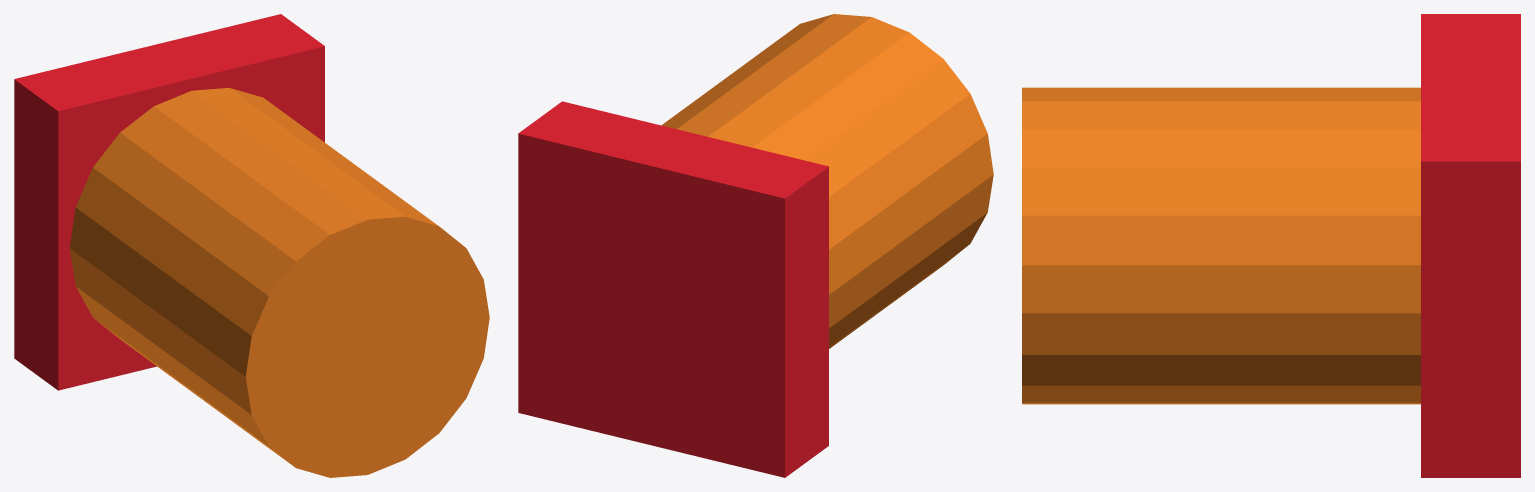
Rendered from tinker.obj.
3 renders of one model, left to right at view 1: azimuth 30°, elevation 25°; view 2: azimuth 150°, elevation 25°; view 3: azimuth 270°, elevation 25°, orthographic. The views are drawn at different scales.
Visible parts, largest first — view 1: group_0_16089887, group_0_15277357; view 2: group_0_15277357, group_0_16089887; view 3: group_0_16089887, group_0_15277357.
Part boxes in pixels (bbox=[...]): group_0_16089887: bbox=[69, 88, 489, 477]; group_0_15277357: bbox=[14, 14, 324, 390]; group_0_15277357: bbox=[518, 101, 828, 477]; group_0_16089887: bbox=[661, 14, 993, 348]; group_0_16089887: bbox=[1022, 87, 1420, 404]; group_0_15277357: bbox=[1421, 14, 1520, 477].
Bounding box in the file's own units: 14 × 14 × 20.
